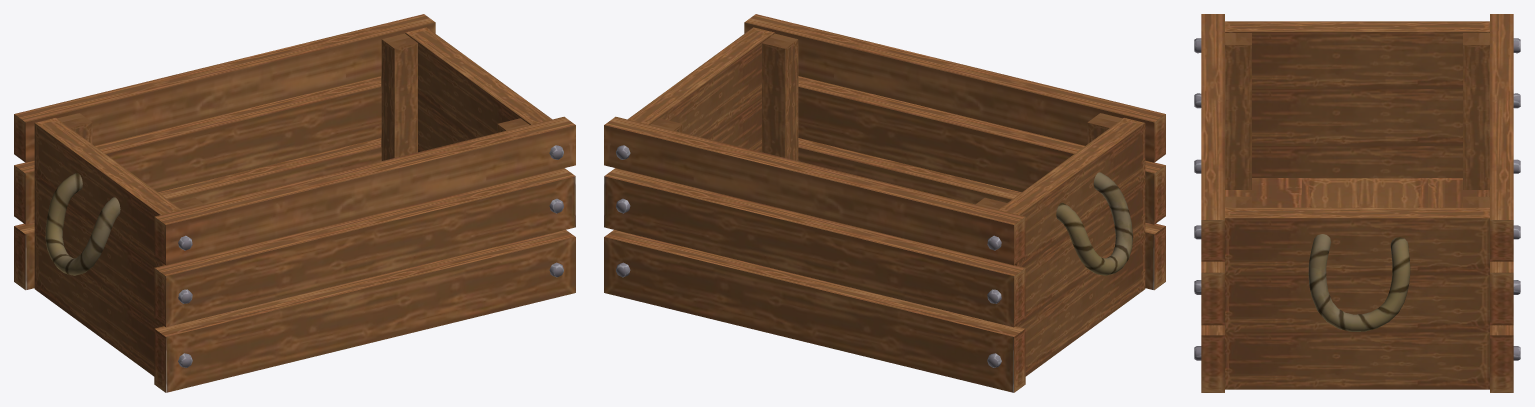
Rendered from FarmCrate_Empty.glb.
3 views of the same model, side by side, from view 1: azimuth 30°, elevation 25°; view 2: azimuth 150°, elevation 25°; view 3: azimuth 270°, elevation 25° (orthographic). The views are drawn at different scales.
Parts seen in each view (by area): view 1: FarmCrate_Empty; view 2: FarmCrate_Empty; view 3: FarmCrate_Empty.
Part boxes in pixels (bbox=[...]): FarmCrate_Empty: bbox=[14, 14, 575, 392]; FarmCrate_Empty: bbox=[604, 14, 1165, 392]; FarmCrate_Empty: bbox=[1194, 14, 1520, 392].
Size of the model in its own units: 0.7138 by 0.2438 by 0.4141.
2 materials, 2 textured.
